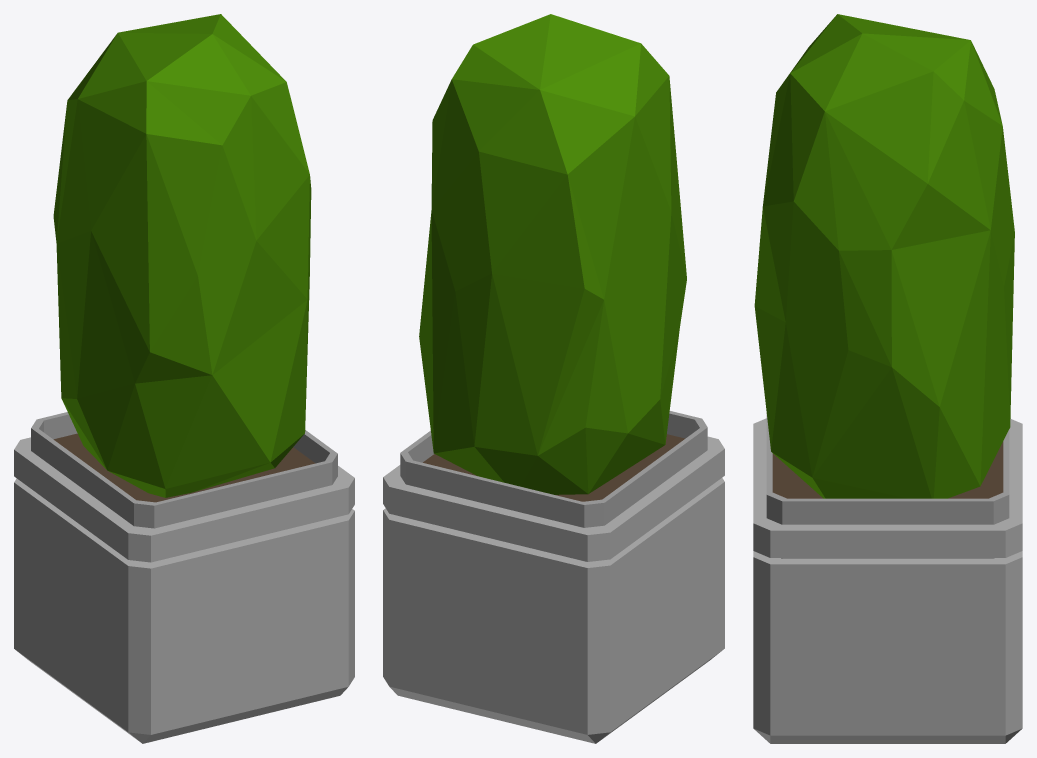
Rendered from Vaso_02.fbx.
3 views of the same model, side by side, from view 1: azimuth 30°, elevation 25°; view 2: azimuth 150°, elevation 25°; view 3: azimuth 270°, elevation 25° (orthographic). The views are drawn at different scales.
Parts seen in each view (by area): view 1: Cube.014, Vaso, Terra; view 2: Cube.014, Vaso, Terra; view 3: Cube.014, Vaso, Terra.
Boxes of the visible parts, box(x1,y1,x2,y2) form: Cube.014: box(53, 14, 311, 497); Vaso: box(14, 412, 354, 743); Terra: box(53, 433, 315, 502); Cube.014: box(419, 14, 686, 494); Vaso: box(383, 411, 724, 743); Terra: box(423, 434, 684, 501); Cube.014: box(754, 14, 1014, 498); Vaso: box(753, 414, 1022, 743); Terra: box(772, 441, 1003, 498).
Size of the model in its own units: 1.02 by 1 by 2.74.
